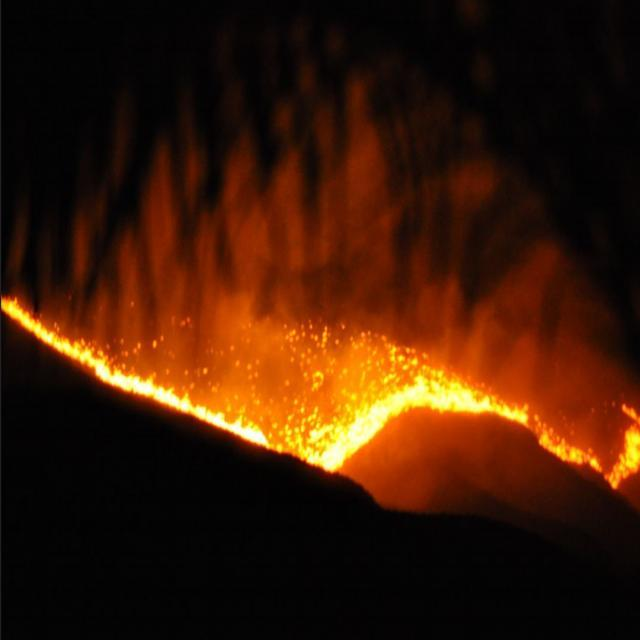Fire: (316, 324, 638, 490), (3, 290, 271, 452)
